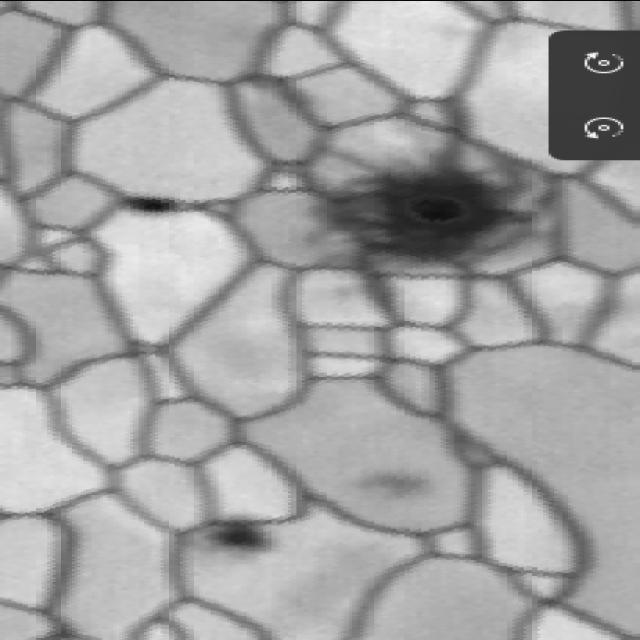good_void: (303, 151, 538, 273), (341, 455, 446, 513), (199, 505, 289, 561), (111, 191, 212, 217)
